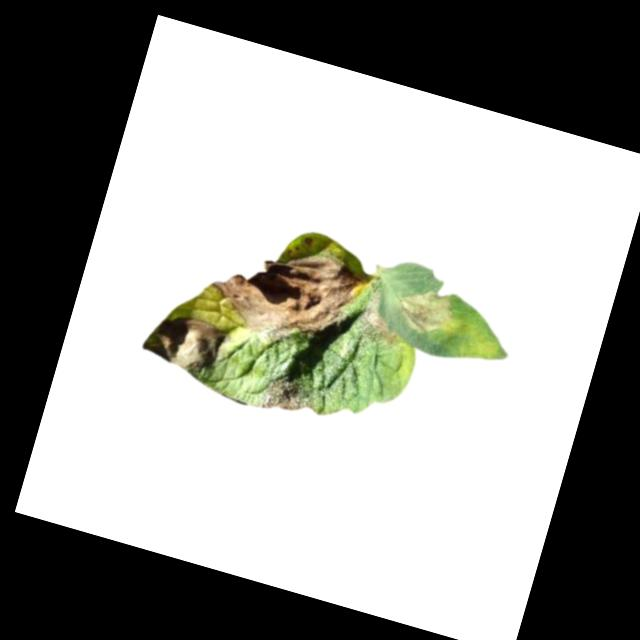Late_blight: (201, 226, 372, 360), (138, 305, 230, 379), (391, 280, 458, 341), (254, 371, 318, 424), (356, 287, 408, 348)
